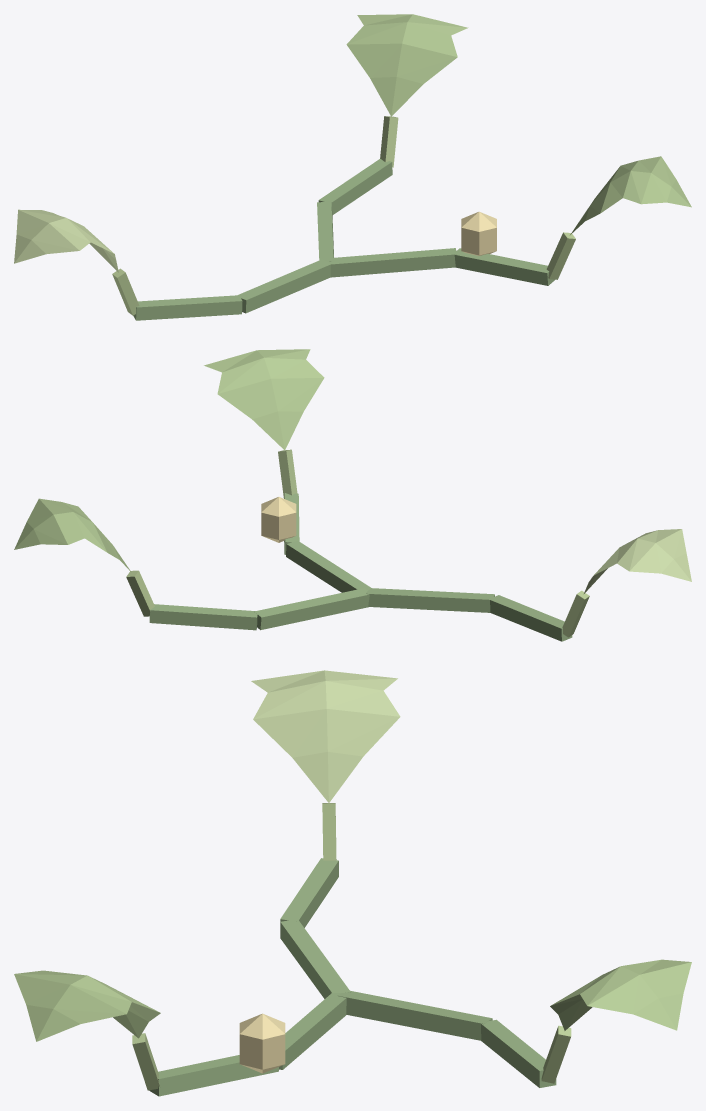
File: crafted-crop-melon-1.glb
The picture shows the model from 3 angles, top to bottom: view 1: azimuth 30°, elevation 25°; view 2: azimuth 150°, elevation 25°; view 3: azimuth 270°, elevation 25°; orthographic projection. The views are drawn at different scales.
Parts seen in each view (by area): view 1: vine-leaf-2, vine-leaf, vine-leaf-1, vine-0, vine-1-1, vine-0-1, vine-1, vine-1-2, flower-bud, vine-0-2, leaf-petiole, leaf-petiole-2 (+1 smaller); view 2: vine-leaf, vine-leaf-2, vine-leaf-1, vine-0-1, vine-0-2, vine-1-2, vine-0, vine-1-1, flower-bud, leaf-petiole-2, leaf-petiole, leaf-petiole-1; view 3: vine-leaf-1, vine-leaf, vine-leaf-2, vine-0-2, flower-bud, vine-1, vine-0-1, vine-0, vine-1-2, vine-1-1, leaf-petiole-2, leaf-petiole (+1 smaller).
Part boxes in pixels (bbox=[...]): vine-leaf-2: bbox=[346, 14, 468, 116]; vine-leaf: bbox=[570, 156, 691, 234]; vine-leaf-1: bbox=[14, 209, 118, 272]; vine-0: bbox=[327, 248, 456, 277]; vine-1-1: bbox=[133, 295, 242, 320]; vine-0-1: bbox=[236, 259, 330, 313]; vine-1: bbox=[454, 248, 554, 285]; vine-1-2: bbox=[318, 158, 392, 214]; flower-bud: bbox=[461, 211, 496, 255]; vine-0-2: bbox=[317, 201, 333, 261]; leaf-petiole: bbox=[546, 232, 575, 279]; leaf-petiole-2: bbox=[380, 116, 398, 167]; vine-leaf: bbox=[204, 349, 324, 450]; vine-leaf-2: bbox=[14, 498, 131, 572]; vine-leaf-1: bbox=[584, 529, 691, 593]; vine-0-1: bbox=[366, 588, 494, 612]; vine-0-2: bbox=[254, 588, 369, 630]; vine-1-2: bbox=[149, 604, 257, 630]; vine-0: bbox=[286, 541, 370, 592]; vine-1-1: bbox=[489, 595, 572, 641]; flower-bud: bbox=[261, 497, 296, 542]; leaf-petiole-2: bbox=[126, 570, 154, 616]; leaf-petiole: bbox=[278, 449, 297, 497]; leaf-petiole-1: bbox=[562, 590, 589, 637]; vine-leaf-1: bbox=[251, 670, 400, 802]; vine-leaf: bbox=[14, 970, 160, 1041]; vine-leaf-2: bbox=[550, 959, 691, 1030]; vine-0-2: bbox=[338, 990, 492, 1040]; flower-bud: bbox=[239, 1013, 285, 1073]; vine-1: bbox=[149, 1055, 278, 1096]; vine-0-1: bbox=[280, 919, 350, 998]; vine-0: bbox=[279, 993, 346, 1069]; vine-1-2: bbox=[481, 1019, 556, 1087]; vine-1-1: bbox=[280, 858, 338, 927]; leaf-petiole-2: bbox=[541, 1025, 571, 1083]; leaf-petiole: bbox=[132, 1033, 159, 1090].
Bounding box in the file's own units: 0.6368 × 0.1354 × 0.5113.
